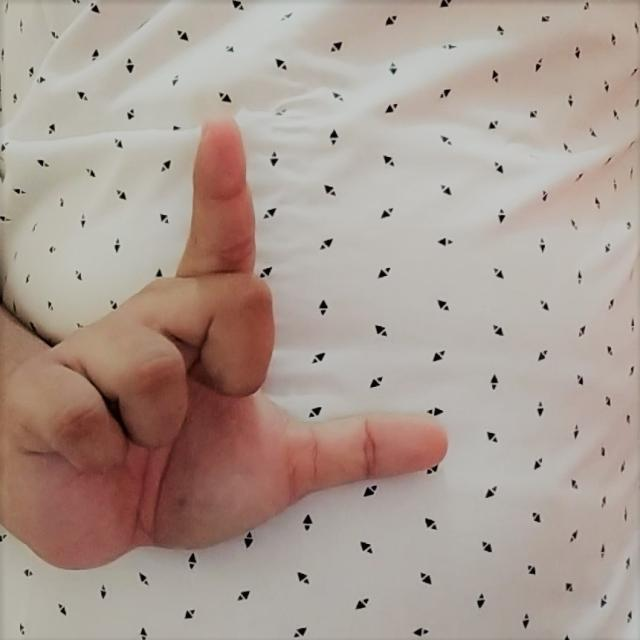L: (7, 103, 454, 577)
